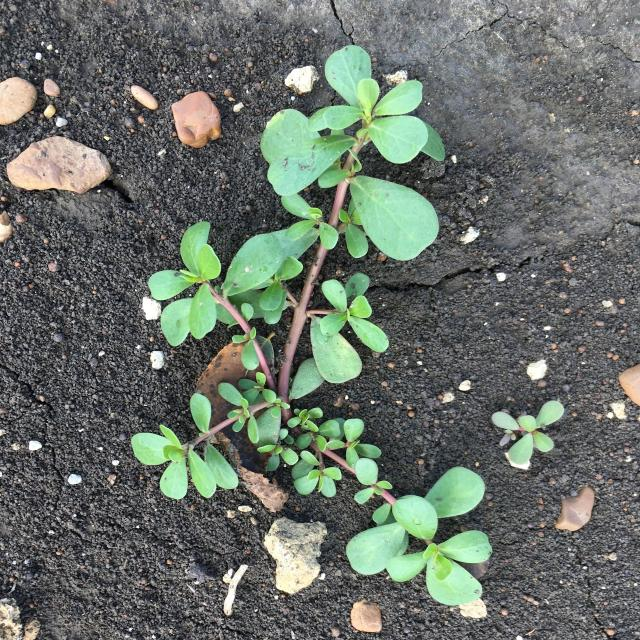Purslane: (131, 45, 493, 606), (493, 400, 565, 465)
